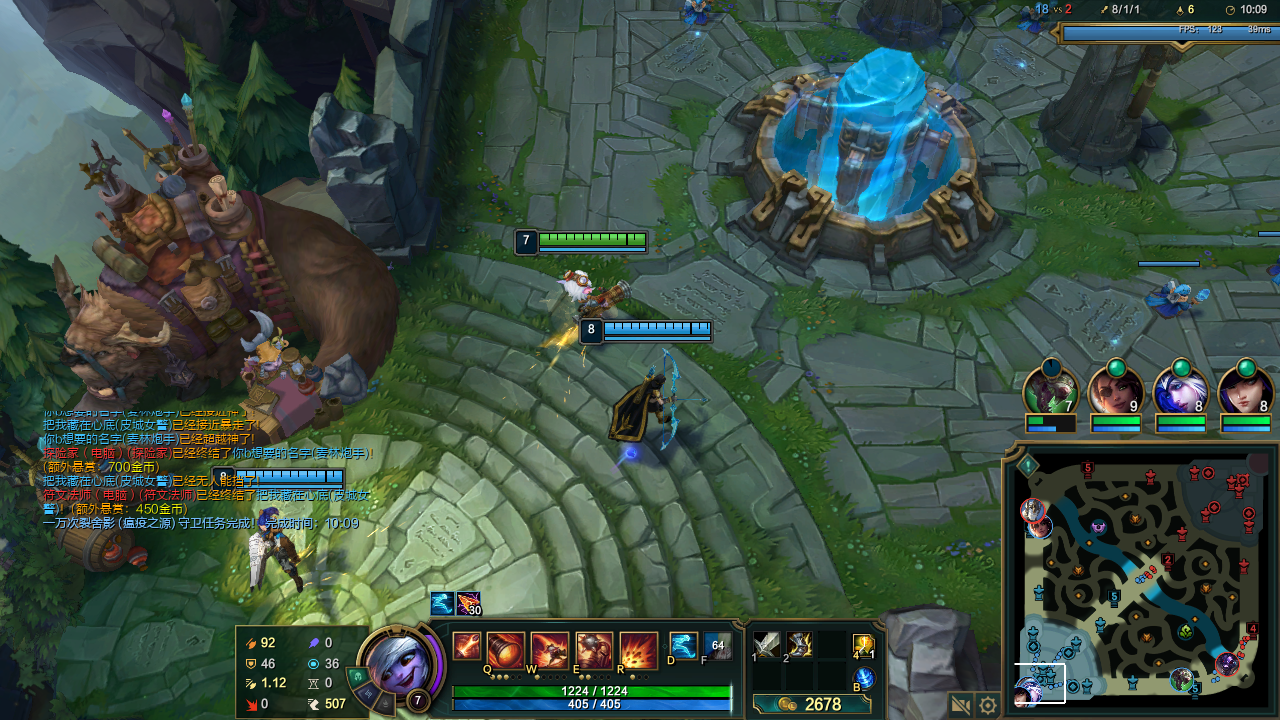WFXB: (1140, 270, 1221, 323)
